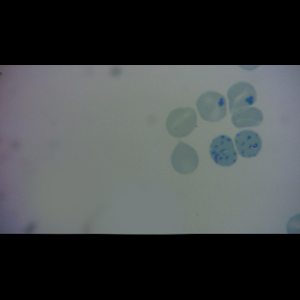aggregate reticulocyte: (208, 134, 239, 168), (234, 129, 263, 159)
erythrocyte: (195, 90, 230, 123), (165, 106, 199, 139), (169, 140, 200, 176), (225, 80, 259, 112)
punctate reticulocyte: (230, 107, 265, 130)
